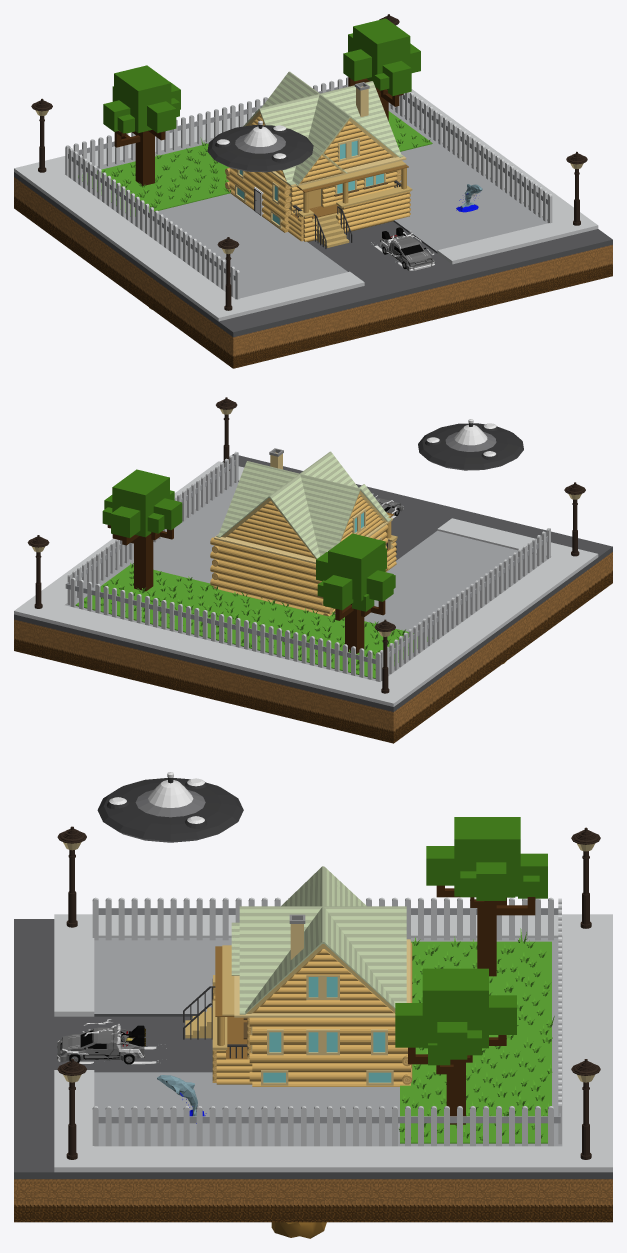
The picture shows the model from 3 angles, top to bottom: view 1: azimuth 30°, elevation 25°; view 2: azimuth 150°, elevation 25°; view 3: azimuth 270°, elevation 25°; orthographic projection. The views are drawn at different scales.
Visible parts, largest first — view 1: Cube.004, Cube.1516, OBJRANDOM_UFO, VEHICLES_DELOREAN; view 2: Cube.004, Cube.1516, OBJRANDOM_UFO; view 3: Cube.004, Cube.1516, OBJRANDOM_UFO, VEHICLES_DELOREAN, UNDERGROUND_T_REX_BONES, ANIMAL_DELFIN.
Boxes of the visible parts, left/top/right/bottom form: Cube.004: left=14, top=14, right=612, bottom=368; Cube.1516: left=225, top=71, right=412, bottom=248; OBJRANDOM_UFO: left=207, top=120, right=313, bottom=172; VEHICLES_DELOREAN: left=371, top=227, right=435, bottom=270; Cube.004: left=14, top=397, right=612, bottom=743; Cube.1516: left=210, top=448, right=397, bottom=616; OBJRANDOM_UFO: left=418, top=419, right=523, bottom=470; Cube.004: left=14, top=817, right=612, bottom=1222; Cube.1516: left=183, top=866, right=412, bottom=1086; OBJRANDOM_UFO: left=97, top=772, right=243, bottom=842; VEHICLES_DELOREAN: left=57, top=1019, right=166, bottom=1064; UNDERGROUND_T_REX_BONES: left=271, top=1222, right=326, bottom=1238; ANIMAL_DELFIN: left=157, top=1075, right=206, bottom=1123.
Size of the model in its own units: 4000 by 2055 by 4000.
39 materials, 4 textured.
